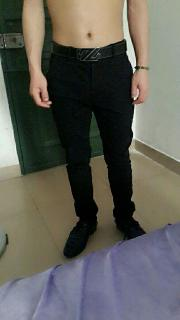trousers: (47, 39, 136, 224)
